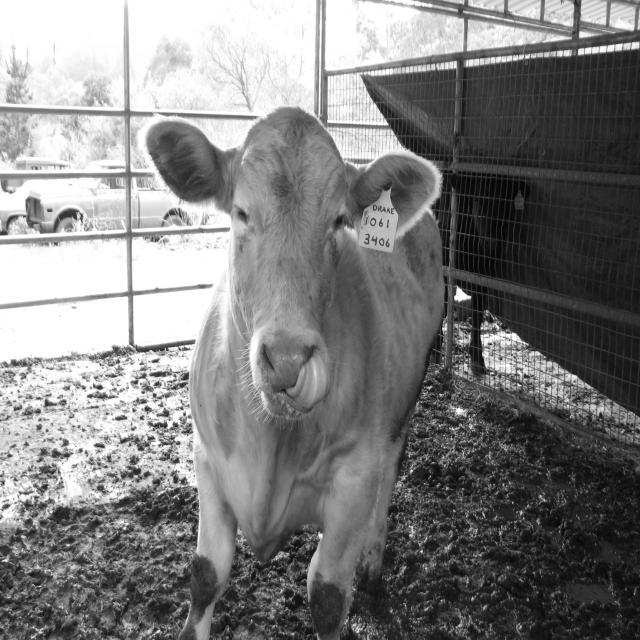cow: (144, 107, 444, 638)
